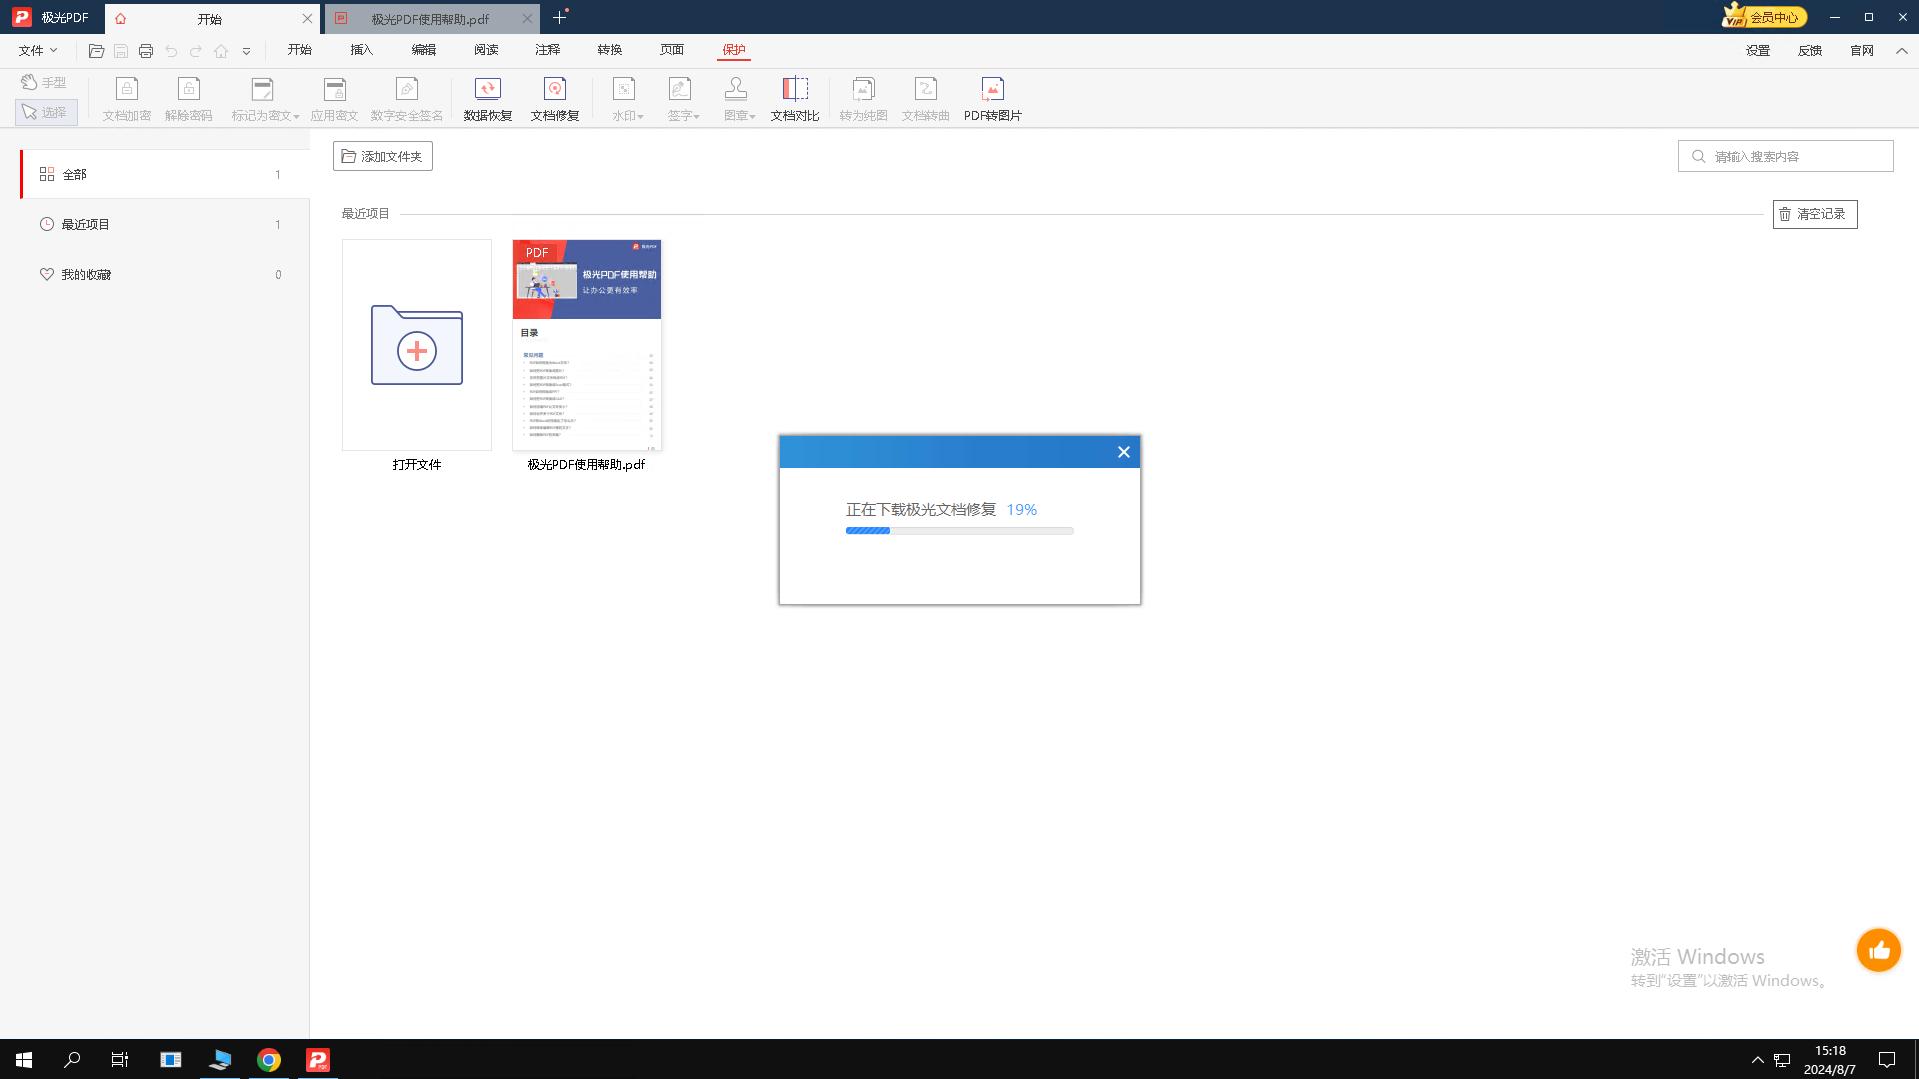Clickable: (1108, 433, 1143, 469)
Root: (779, 435, 1141, 607)
level_0: (778, 468, 1140, 609), (779, 433, 1141, 470)
